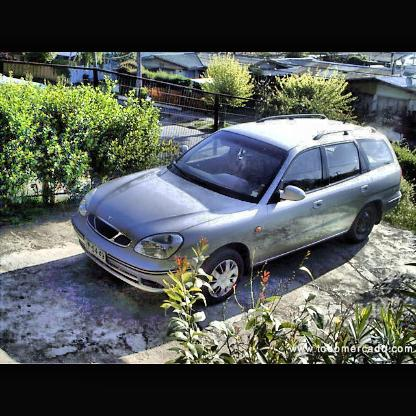Daewoo Nubira Wagon 2002: (71, 115, 404, 308)
